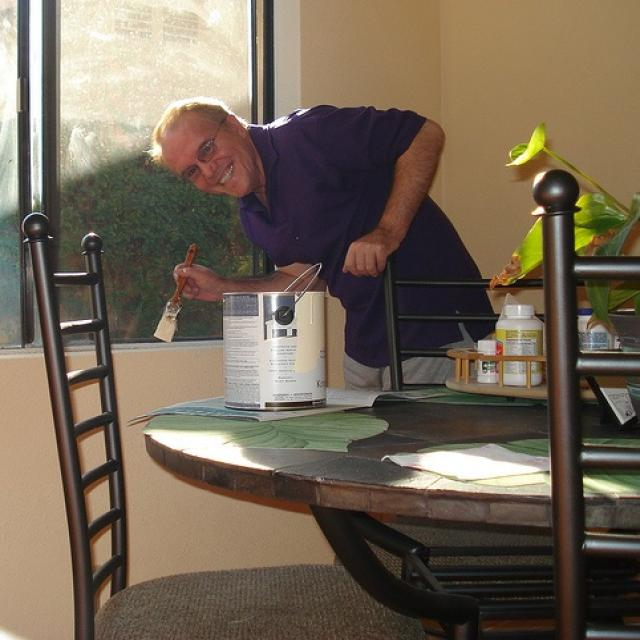chair: (20, 212, 413, 638), (524, 167, 638, 638), (378, 255, 614, 420)
